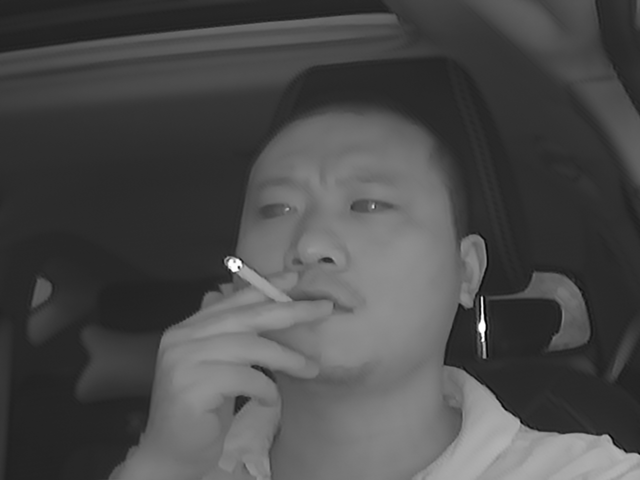hand: (183, 265, 333, 418)
